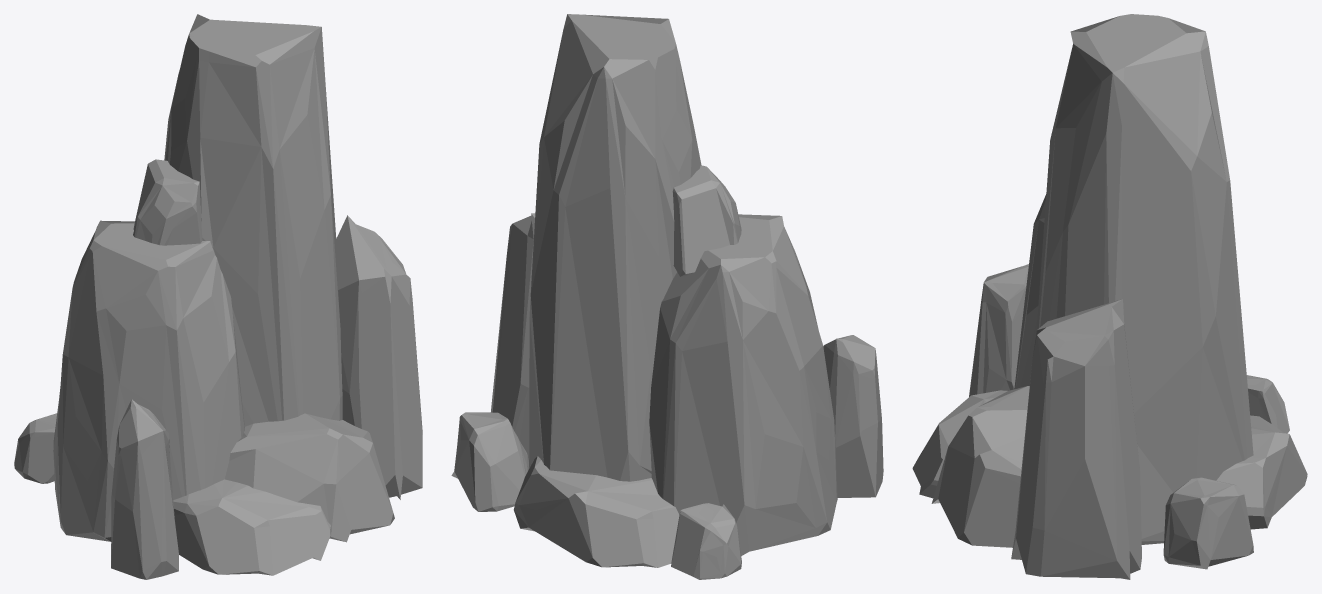
The model's file is Rock_024.glb.
3 views of the same model, side by side, from view 1: azimuth 30°, elevation 25°; view 2: azimuth 150°, elevation 25°; view 3: azimuth 270°, elevation 25° (orthographic). The views are drawn at different scales.
Visible parts, largest first — view 1: Rock_024; view 2: Rock_024; view 3: Rock_024.
Part boxes in pixels (x1,y1,x2,y2): Rock_024: [14, 14, 422, 579]; Rock_024: [451, 14, 883, 579]; Rock_024: [912, 14, 1307, 579].
Bounding box in the file's own units: 3.36 × 4.28 × 3.26.
1 material, 1 textured.
